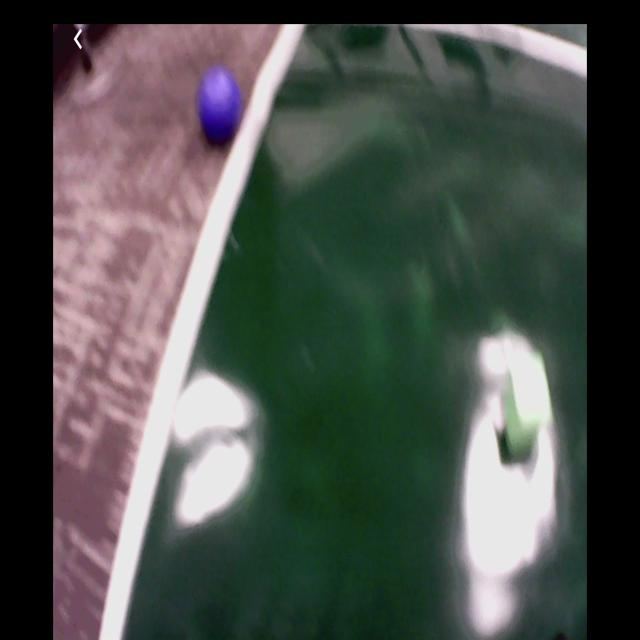ball: (199, 68, 241, 145)
